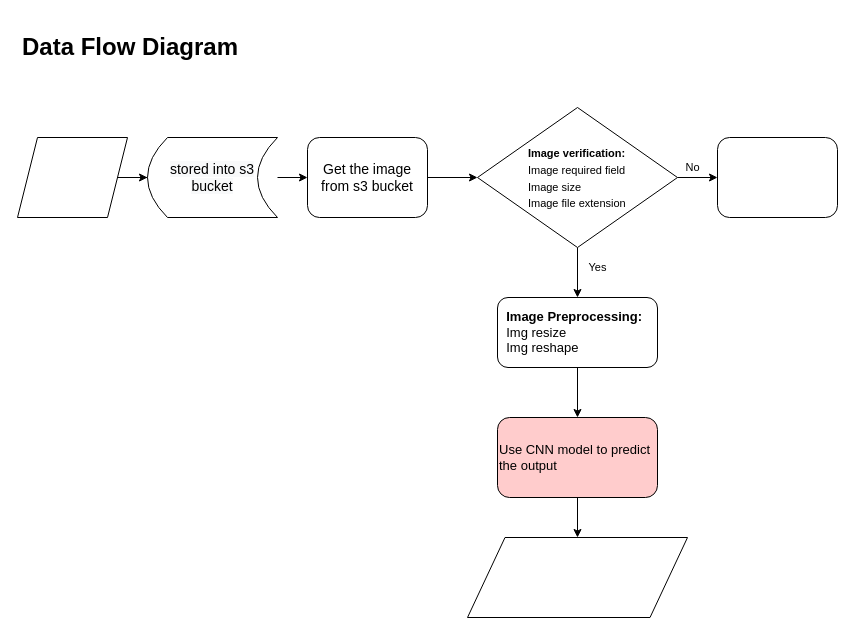
The diagram is 855 pixels wide and 635 high, and some of its shapes have lost their labels. Here are the shapes that lost their labels. From the top down, the centre of each, then its label:
At (72,177): "Input x-ray image".
At (777,177): "Display failed verification on home page.".
At (577,577): "output on home page: normal result is < 0.5 pnemonia result is >= 0.5".
